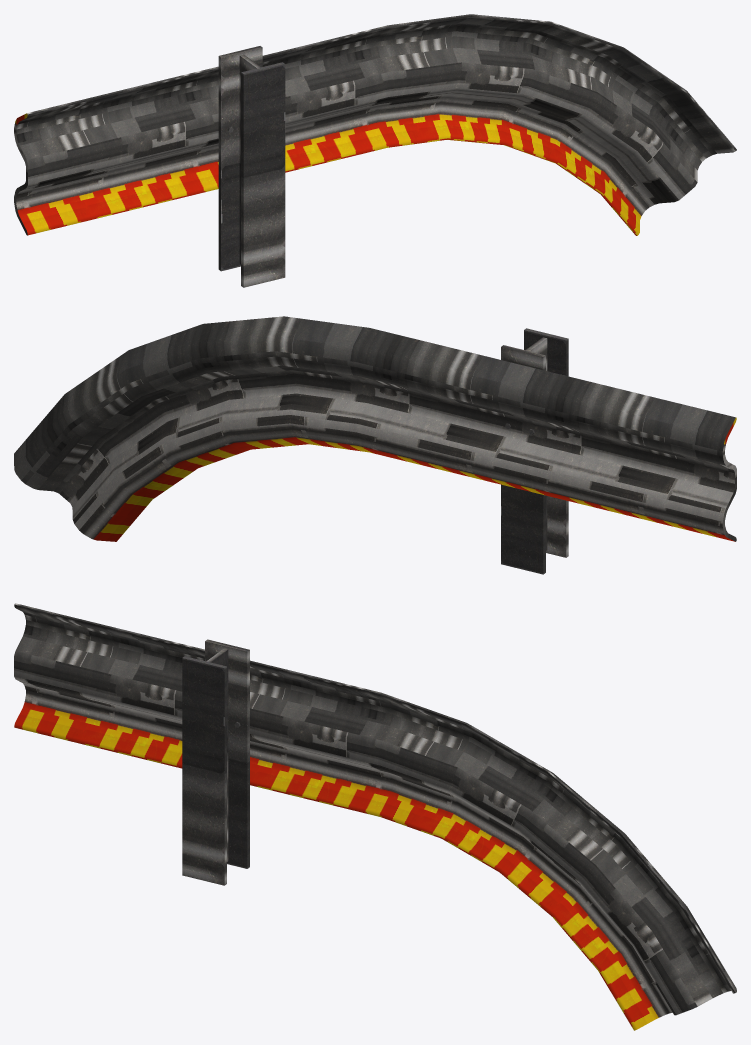
The model's file is Rail 4.FBX.
The picture shows the model from 3 angles, top to bottom: view 1: azimuth 30°, elevation 25°; view 2: azimuth 150°, elevation 25°; view 3: azimuth 330°, elevation 25°; orthographic projection.
Visible parts, largest first — view 1: guardrail_end_left_a; view 2: guardrail_end_left_a; view 3: guardrail_end_left_a.
Part boxes in pixels (x1,y1,x2,y2): guardrail_end_left_a: (14, 14, 736, 287); guardrail_end_left_a: (14, 316, 736, 574); guardrail_end_left_a: (14, 603, 736, 1030).
Bounding box in the file's own units: 350 × 133 × 33.42.
